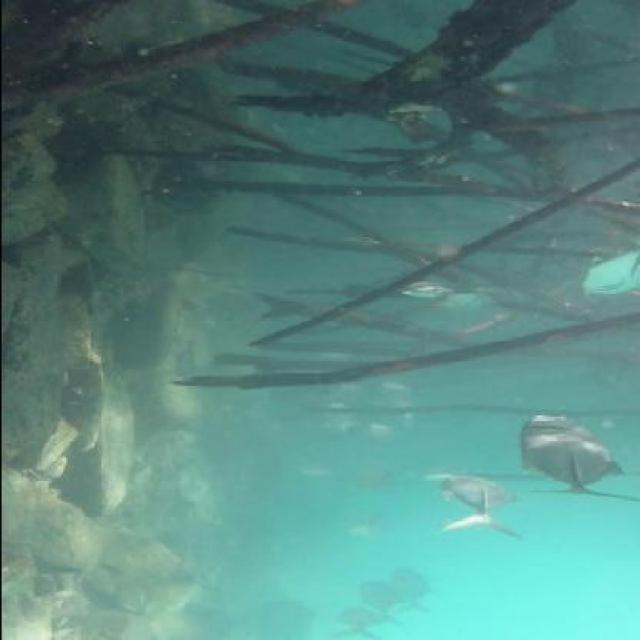Caranx_sexfasciatus_juvenile: (518, 404, 640, 508), (422, 469, 523, 542), (567, 234, 640, 305), (417, 286, 512, 322), (383, 565, 440, 620), (348, 576, 412, 622), (332, 455, 405, 490), (341, 379, 427, 406), (322, 600, 382, 638), (300, 400, 358, 438), (323, 516, 399, 544), (275, 454, 351, 481), (336, 419, 406, 446), (394, 279, 458, 304)
